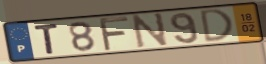8: (68, 20, 98, 53)
9: (168, 11, 201, 45)
D: (200, 8, 236, 45)
F: (97, 16, 131, 53)
N: (131, 11, 169, 49)
T: (32, 22, 61, 55)
